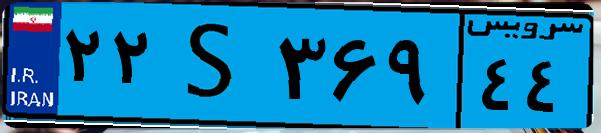2: (57, 26, 110, 100), (110, 28, 158, 98)
3: (270, 28, 330, 110)
4: (475, 38, 525, 113), (525, 38, 570, 115)
6: (330, 28, 385, 110)
9: (385, 28, 445, 110)
S: (158, 12, 270, 120)
